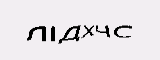Г: (54, 15, 69, 39)
З: (67, 16, 83, 41)
И: (81, 17, 97, 44)
К: (100, 22, 120, 44)
С: (37, 12, 55, 37)
